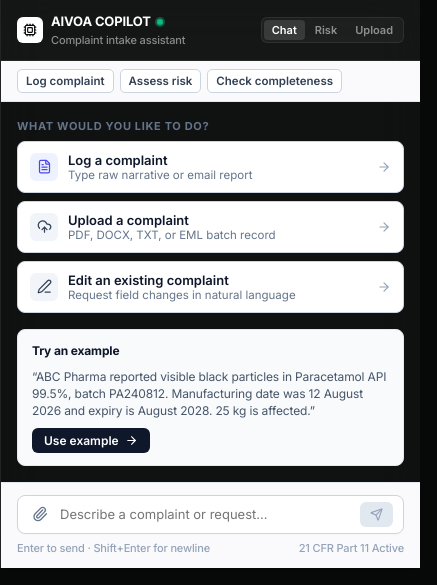
Copilot First-Run Experience Tests › handles and displays error state with retry button when analysis fails
Click the button "Use example": (91,440) top-left (32, 428), bottom-right (150, 453)
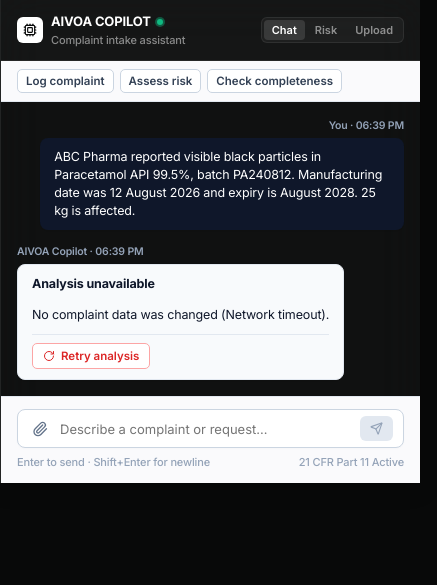
Check: the text "Analysis unavailable" is shown, box top-left (32, 276), bottom-right (155, 291)
Check: the text "Retry analysis" is shown, box top-left (61, 349), bottom-right (139, 363)
